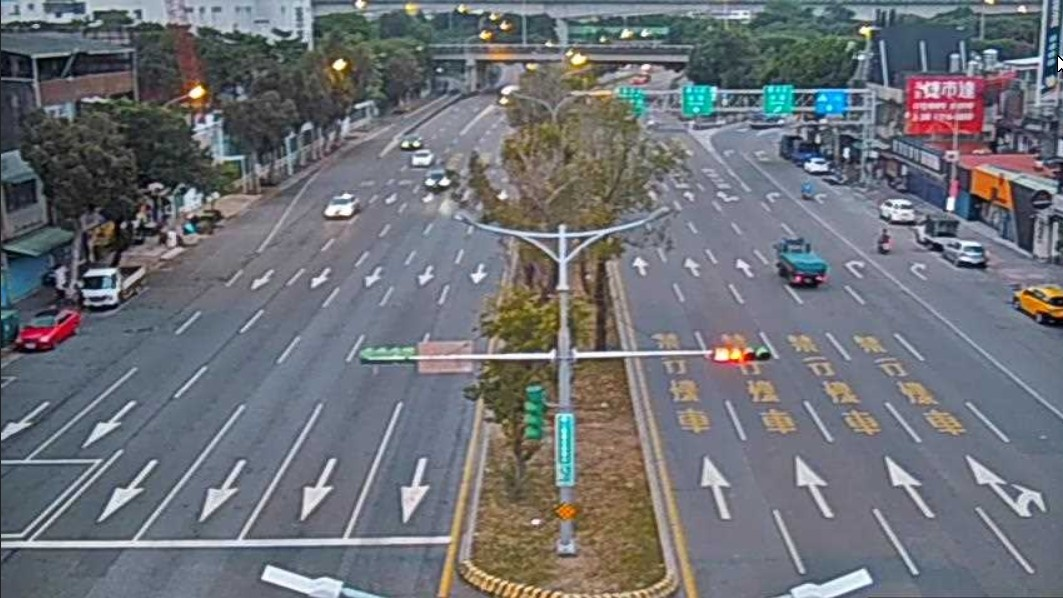Business Passenger Car: (1015, 267, 1063, 330)
Private Passenger Car: (767, 231, 827, 295), (15, 303, 75, 355), (321, 183, 363, 229), (949, 229, 989, 277), (873, 187, 923, 225), (421, 163, 457, 193), (397, 132, 424, 154), (804, 154, 830, 176), (411, 147, 437, 169)
